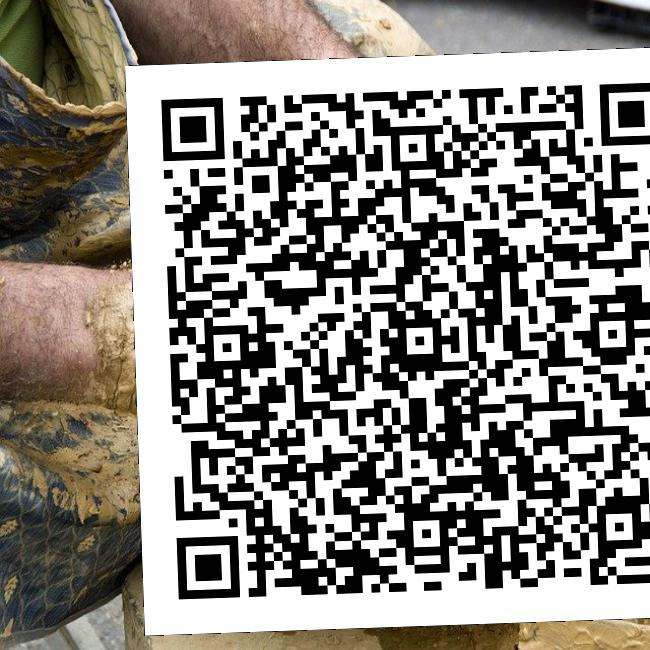qr_code: (125, 79, 649, 603)
